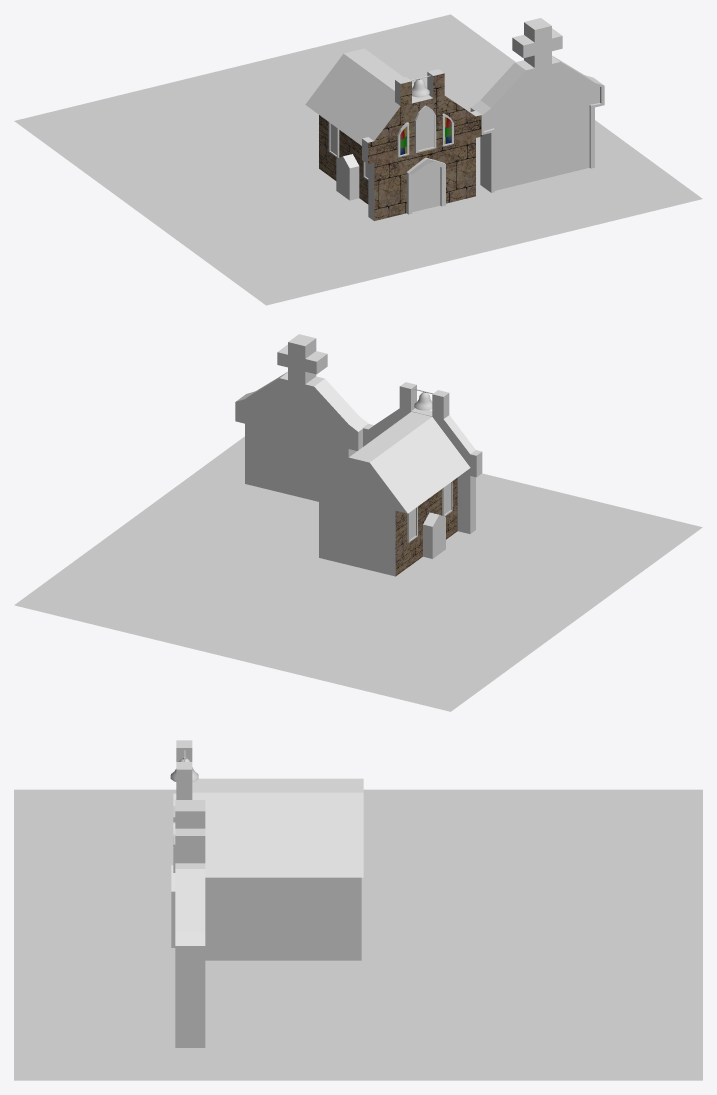
File: Church2.dae
3 renders of one model, top to bottom at view 1: azimuth 30°, elevation 25°; view 2: azimuth 150°, elevation 25°; view 3: azimuth 270°, elevation 25°, orthographic. The views are drawn at different scales.
Parts seen in each view (by area): view 1: Plane_001, front_001, Plane, roof, door, Cube, Cube_003, windowcenter; view 2: Plane_001, front_001, roof, Cube, Plane, Cube_003; view 3: Plane_001, roof, Cube, front_001, Plane.
Part boxes in pixels (x1=…): Plane_001: x1=14, y1=14, x2=702, y2=305; front_001: x1=470, y1=18, x2=604, y2=192; Plane: x1=362, y1=69, x2=481, y2=220; roof: x1=305, y1=48, x2=414, y2=145; door: x1=406, y1=157, x2=445, y2=214; Cube: x1=319, y1=115, x2=368, y2=204; Cube_003: x1=336, y1=154, x2=359, y2=200; windowcenter: x1=414, y1=105, x2=436, y2=152; Plane_001: x1=14, y1=436, x2=702, y2=711; front_001: x1=235, y1=334, x2=368, y2=501; roof: x1=307, y1=411, x2=470, y2=513; Cube: x1=319, y1=477, x2=457, y2=576; Plane: x1=363, y1=382, x2=482, y2=533; Cube_003: x1=423, y1=512, x2=445, y2=558; Plane_001: x1=14, y1=789, x2=702, y2=1080; roof: x1=192, y1=778, x2=363, y2=877; Cube: x1=205, y1=877, x2=361, y2=960; front_001: x1=175, y1=800, x2=205, y2=1047; Plane: x1=176, y1=740, x2=192, y2=799.
Bounding box in the file's own units: 11.38 × 11.38 × 3.81.
